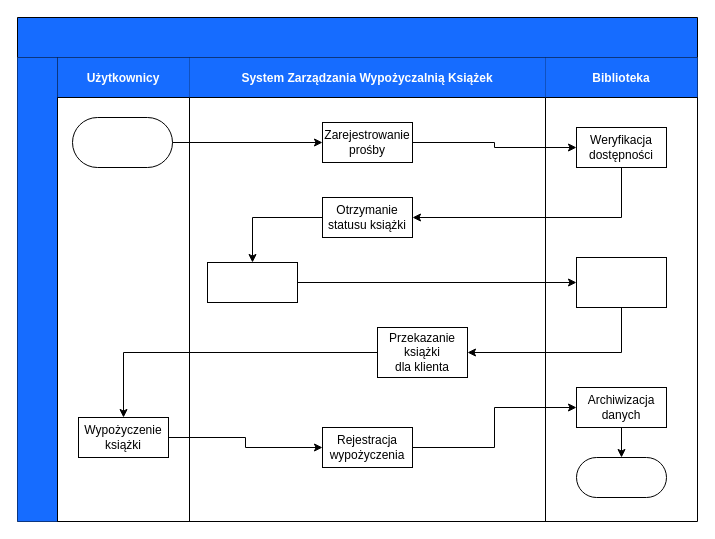
The diagram is 715 pixels wide and 539 high, and some of its shapes have lost their labels. The centre of each missing label's shape, as x and y in pixels:
Koniec: (x=621, y=477)
Utworzenie prośby o wypożyczenie: (x=122, y=142)
Utworzenie wypożyczenia: (x=252, y=282)
Wydanie książki do SZWK: (x=621, y=282)
